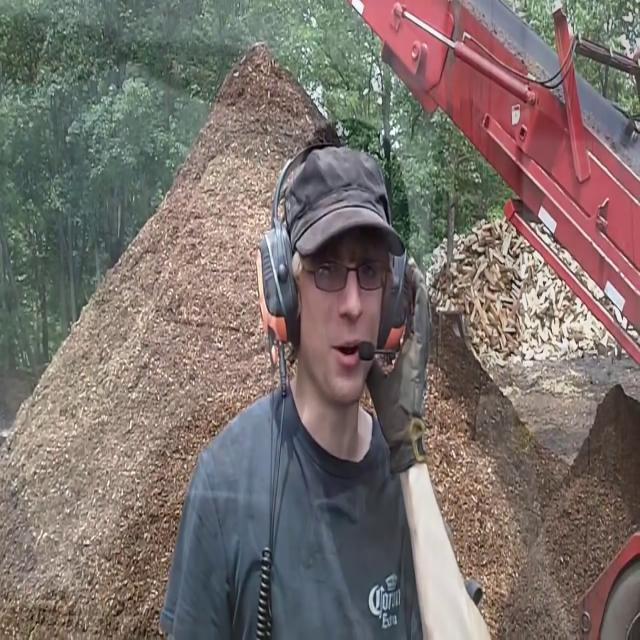earmuff: (264, 234, 288, 308)
glasses: (315, 254, 374, 289)
